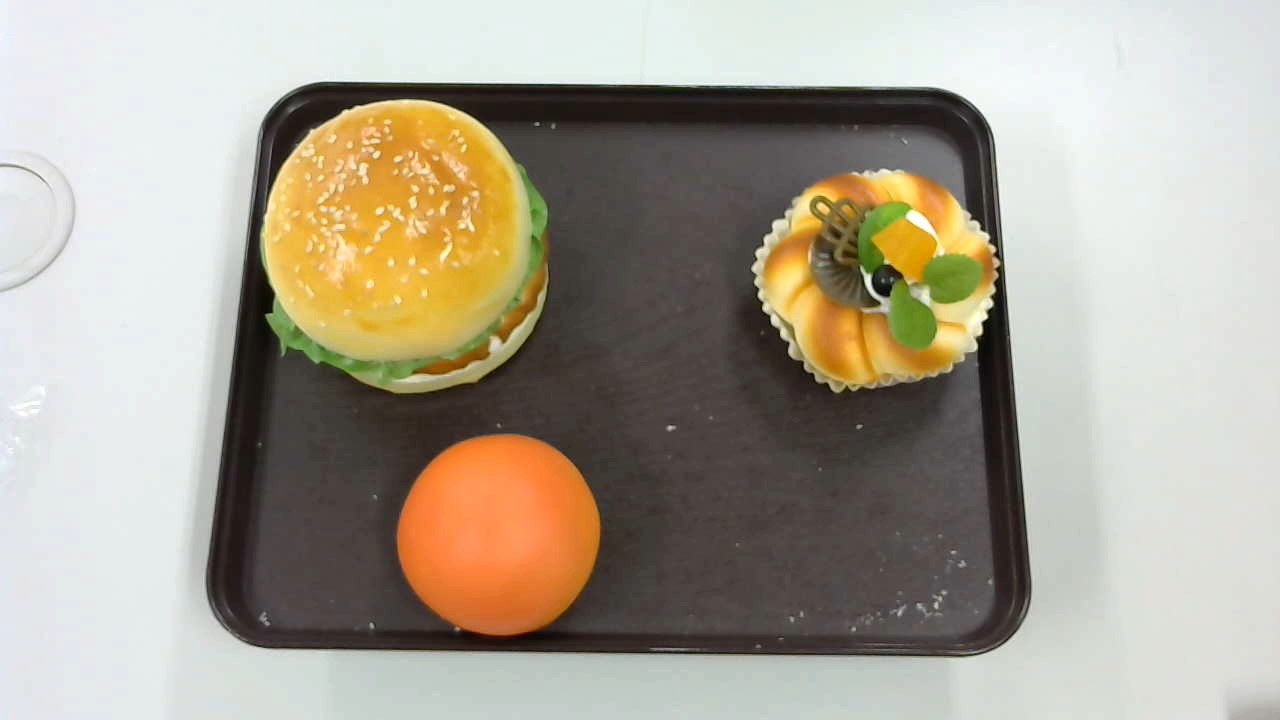bun: (395, 432, 599, 636)
fruit tart: (751, 169, 1002, 394)
hamburger: (261, 100, 550, 397)
